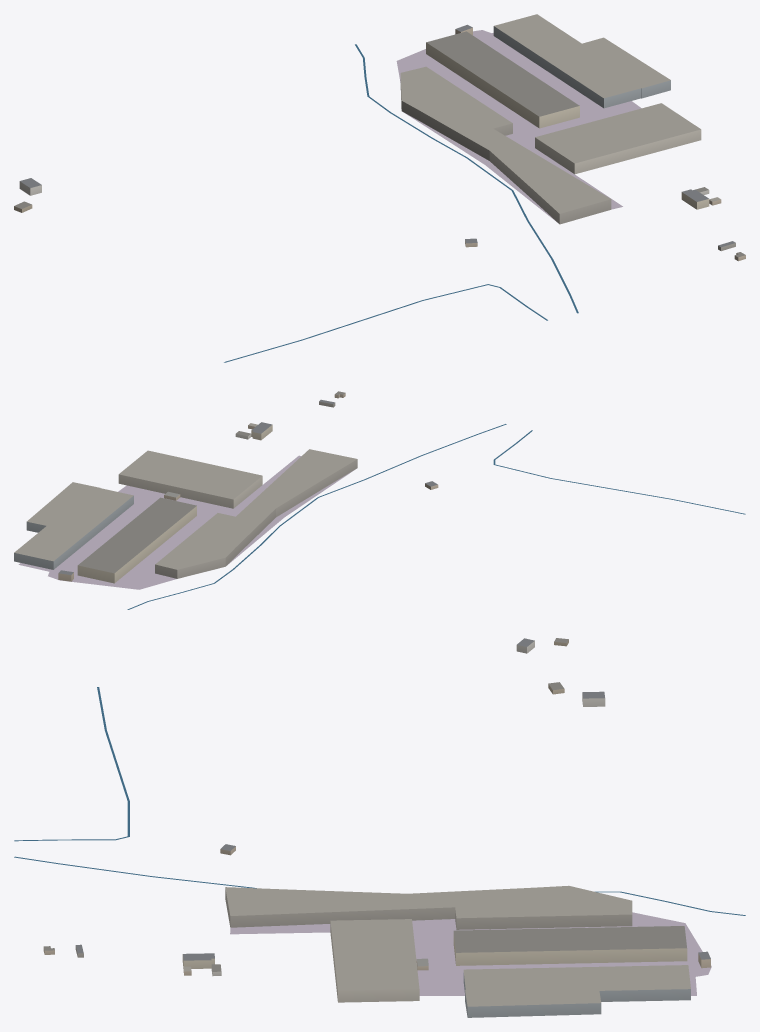
3 renders of one model, top to bottom at view 1: azimuth 30°, elevation 25°; view 2: azimuth 150°, elevation 25°; view 3: azimuth 270°, elevation 25°, orthographic. The views are drawn at different scales.
Parts seen in each view (by area): view 1: buildings_roofs, buildings_walls, landuse, water; view 2: buildings_roofs, buildings_walls, landuse, water; view 3: buildings_roofs, buildings_walls, landuse, water.
Part boxes in pixels (box(x1,y1,x2,y2)): buildings_roofs: box(14, 14, 745, 257); buildings_walls: box(14, 26, 745, 261); landuse: box(396, 30, 641, 223); water: box(224, 44, 578, 362); buildings_roofs: box(14, 391, 568, 646); buildings_walls: box(14, 393, 568, 653); landuse: box(18, 455, 353, 589); water: box(127, 424, 745, 609); buildings_roofs: box(43, 682, 710, 1006); buildings_walls: box(43, 684, 710, 1017); landuse: box(230, 912, 711, 995); water: box(14, 687, 745, 915).
Bounding box in the file's own units: 537 × 9.82 × 500.
